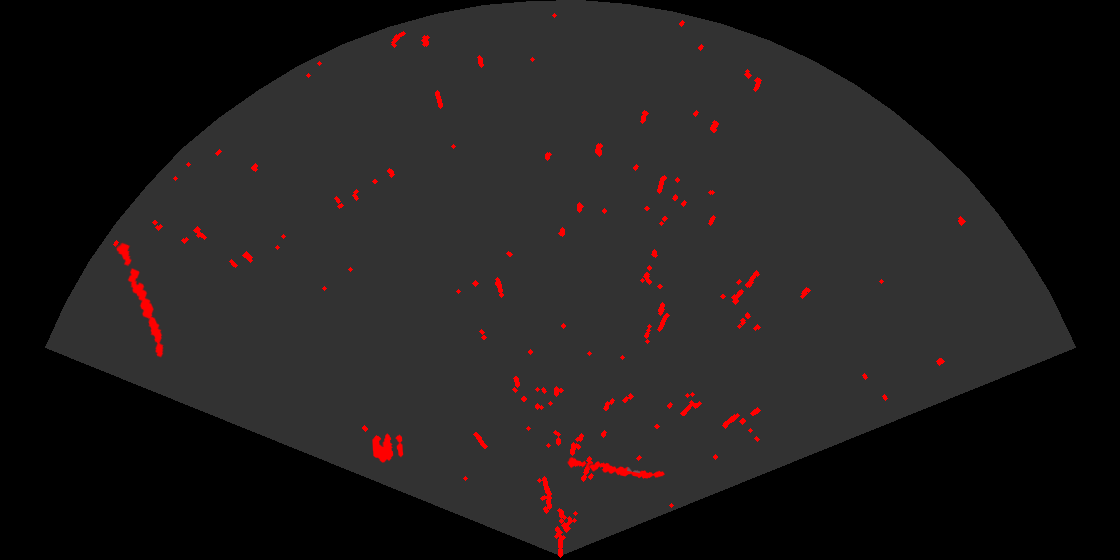ball: (371, 432, 405, 464)
chain: (114, 240, 165, 359), (565, 456, 666, 480)
